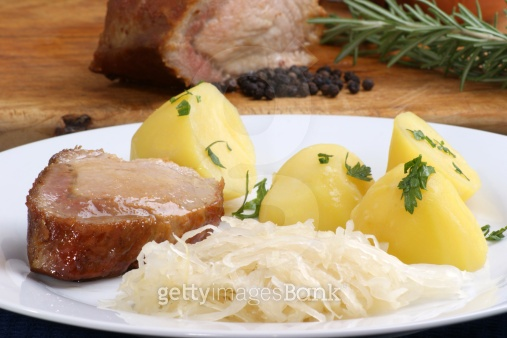boiled potatoes: (254, 115, 492, 272), (132, 85, 258, 196)
